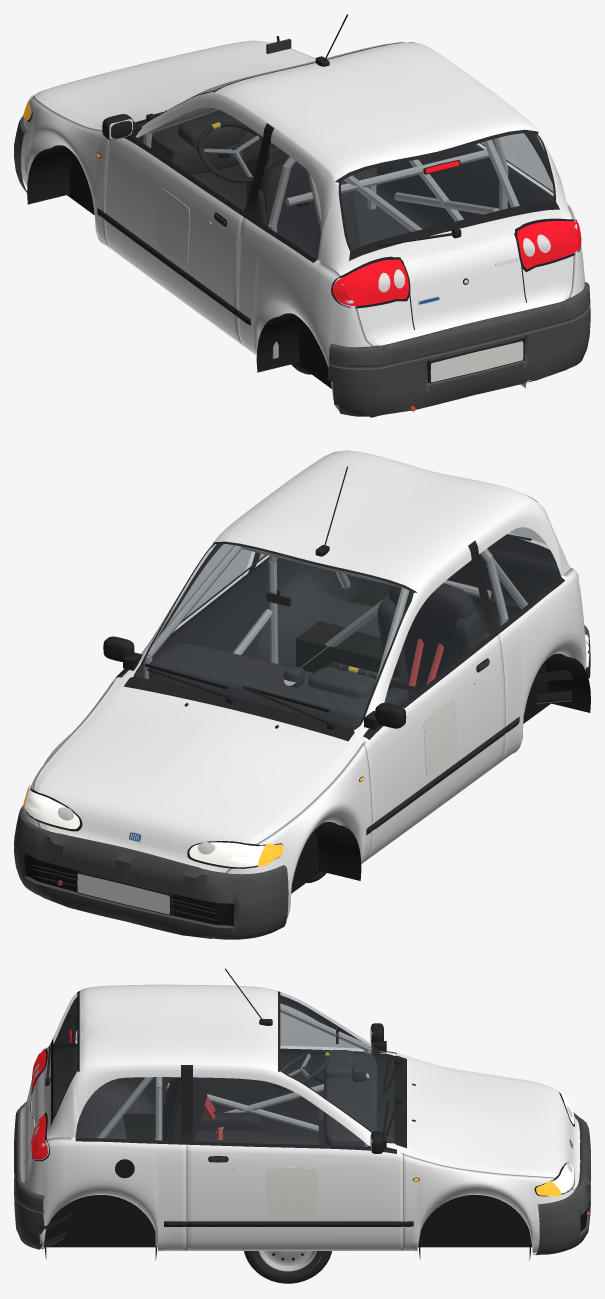
The model's file is seicento.glb.
The picture shows the model from 3 angles, top to bottom: view 1: azimuth 30°, elevation 25°; view 2: azimuth 150°, elevation 25°; view 3: azimuth 270°, elevation 25°; orthographic projection. The views are drawn at different scales.
Parts seen in each view (by area): view 1: Body, Details, Cabin, Stripes; view 2: Body, Details, Cabin, Stripes; view 3: Body, Details, Cabin, Stripes, Wheel.
Boxes of the visible parts, box(x1,y1,x2,y2) form: Body: box(21, 40, 584, 410); Details: box(14, 14, 590, 417); Cabin: box(143, 36, 519, 358); Stripes: box(104, 52, 476, 157); Body: box(23, 450, 586, 918); Details: box(14, 466, 590, 939); Cabin: box(143, 545, 527, 729); Stripes: box(103, 460, 475, 821); Body: box(20, 984, 580, 1253); Details: box(14, 968, 590, 1260); Cabin: box(97, 1005, 377, 1246); Stripes: box(81, 1003, 554, 1145); Wheel: box(244, 1251, 331, 1283).
Size of the model in its own units: 1.65 by 2.02 by 3.39.
